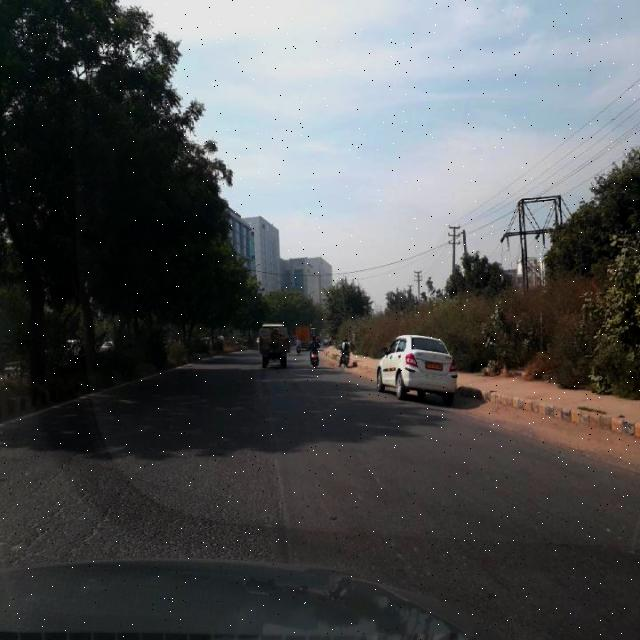D00: (1, 463, 142, 557)
